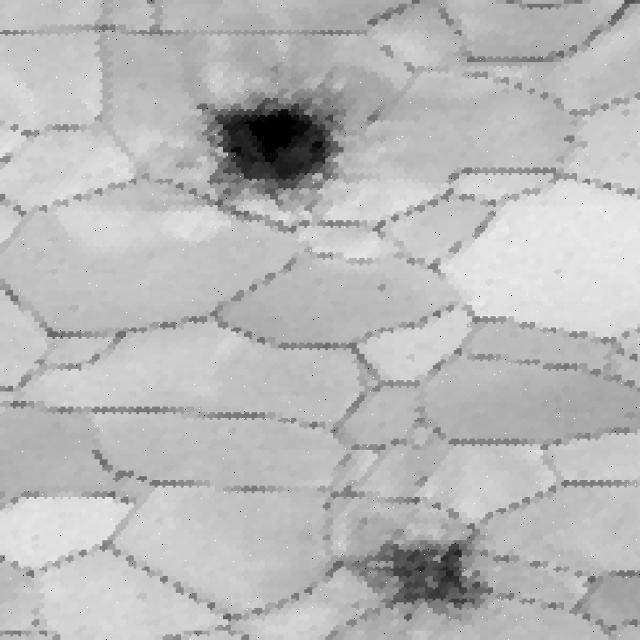good_void: (185, 74, 364, 223), (322, 523, 501, 634), (364, 104, 387, 131), (560, 131, 589, 149), (374, 281, 396, 293)
